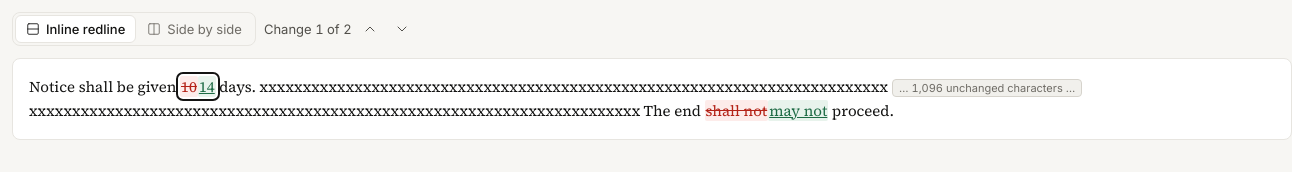
DiffView › navigates between changes
Expected: the text "Change 1 of 2" is shown, [264,19,352,39]
What coordinates should you click on to do the following:
click the button named "Next change"
I would click on:
 (402, 29)
Its box is [388,15,416,43].
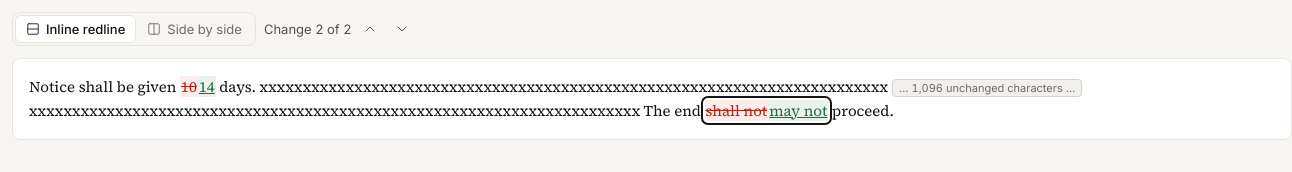
Expected: the text "Change 2 of 2" is shown, [264,19,352,39]
What coordinates should you click on to do the following:
click the button named "Next change"
I would click on:
 (402, 29)
Its box is [388,15,416,43].
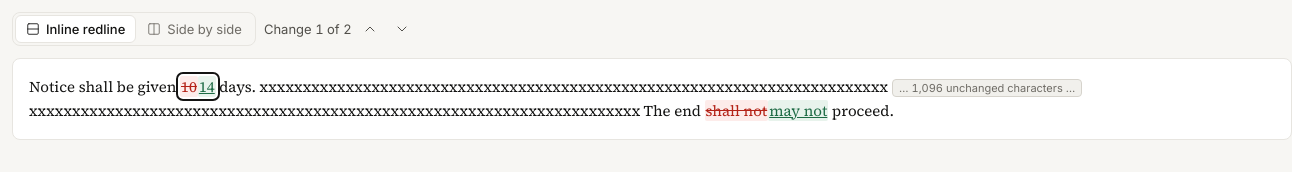
Expected: the text "Change 1 of 2" is shown, [264,19,352,39]
What coordinates should you click on to do the following:
click the button named "Previous change"
I would click on:
 (370, 29)
Its box is [356,15,384,43].
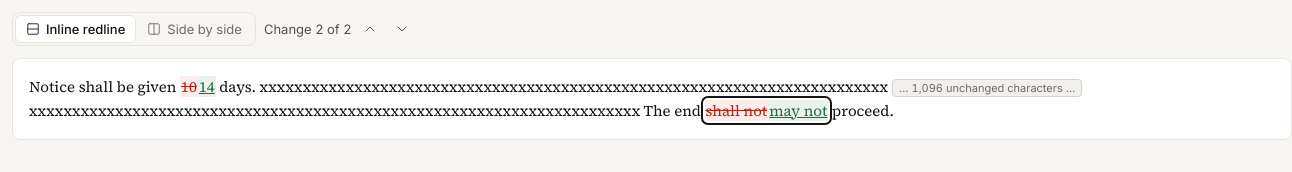
Expected: the text "Change 2 of 2" is shown, [264,19,352,39]
